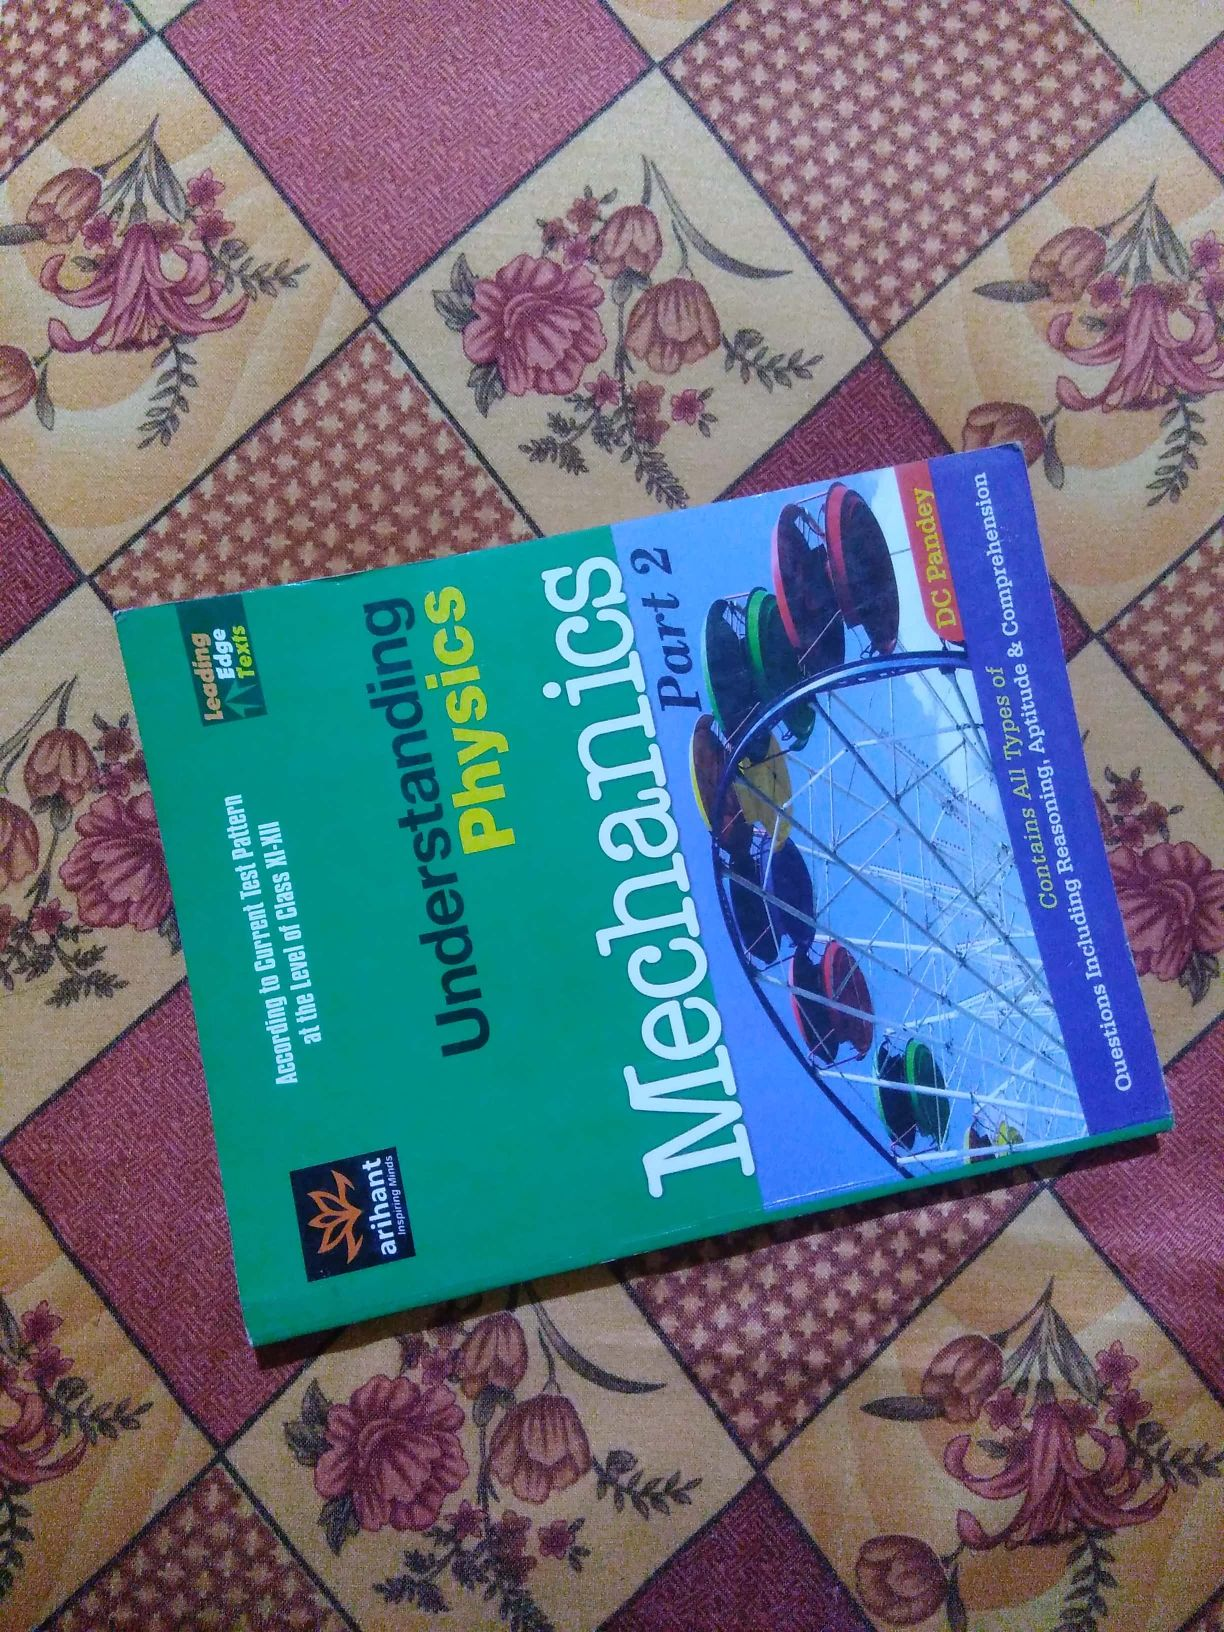mechanics: (102, 481, 1183, 1339)
